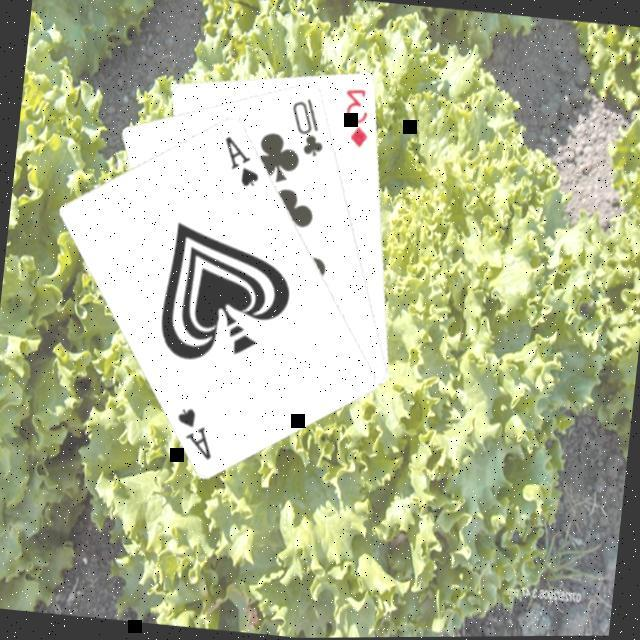10C: (285, 92, 333, 160)
3D: (338, 82, 378, 151)
AS: (171, 401, 221, 462), (218, 130, 268, 190)
